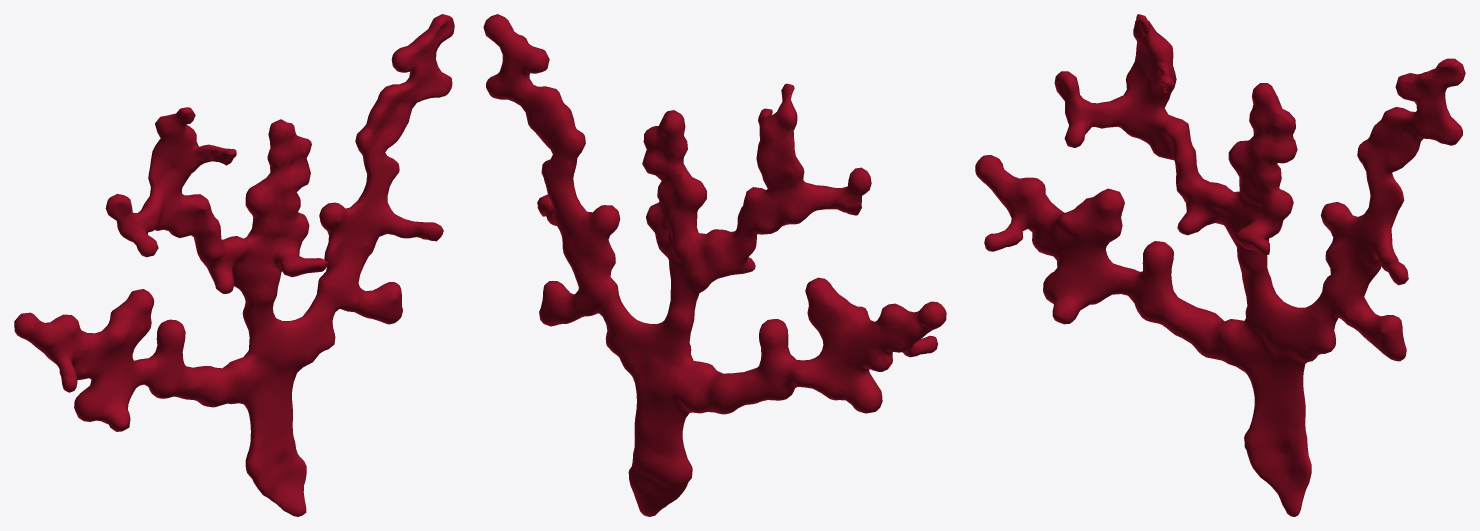
The model's file is coralreef.fbx.
The picture shows the model from 3 angles, left to right: view 1: azimuth 30°, elevation 25°; view 2: azimuth 150°, elevation 25°; view 3: azimuth 330°, elevation 25°; orthographic projection. The views are drawn at different scales.
Parts seen in each view (by area): view 1: Mball.116; view 2: Mball.116; view 3: Mball.116.
Boxes of the visible parts, x1,y1,x2,y2 form: Mball.116: (14, 14, 454, 516); Mball.116: (483, 14, 946, 516); Mball.116: (975, 14, 1465, 516).
Bounding box in the file's own units: 341 × 338 × 60.85.
